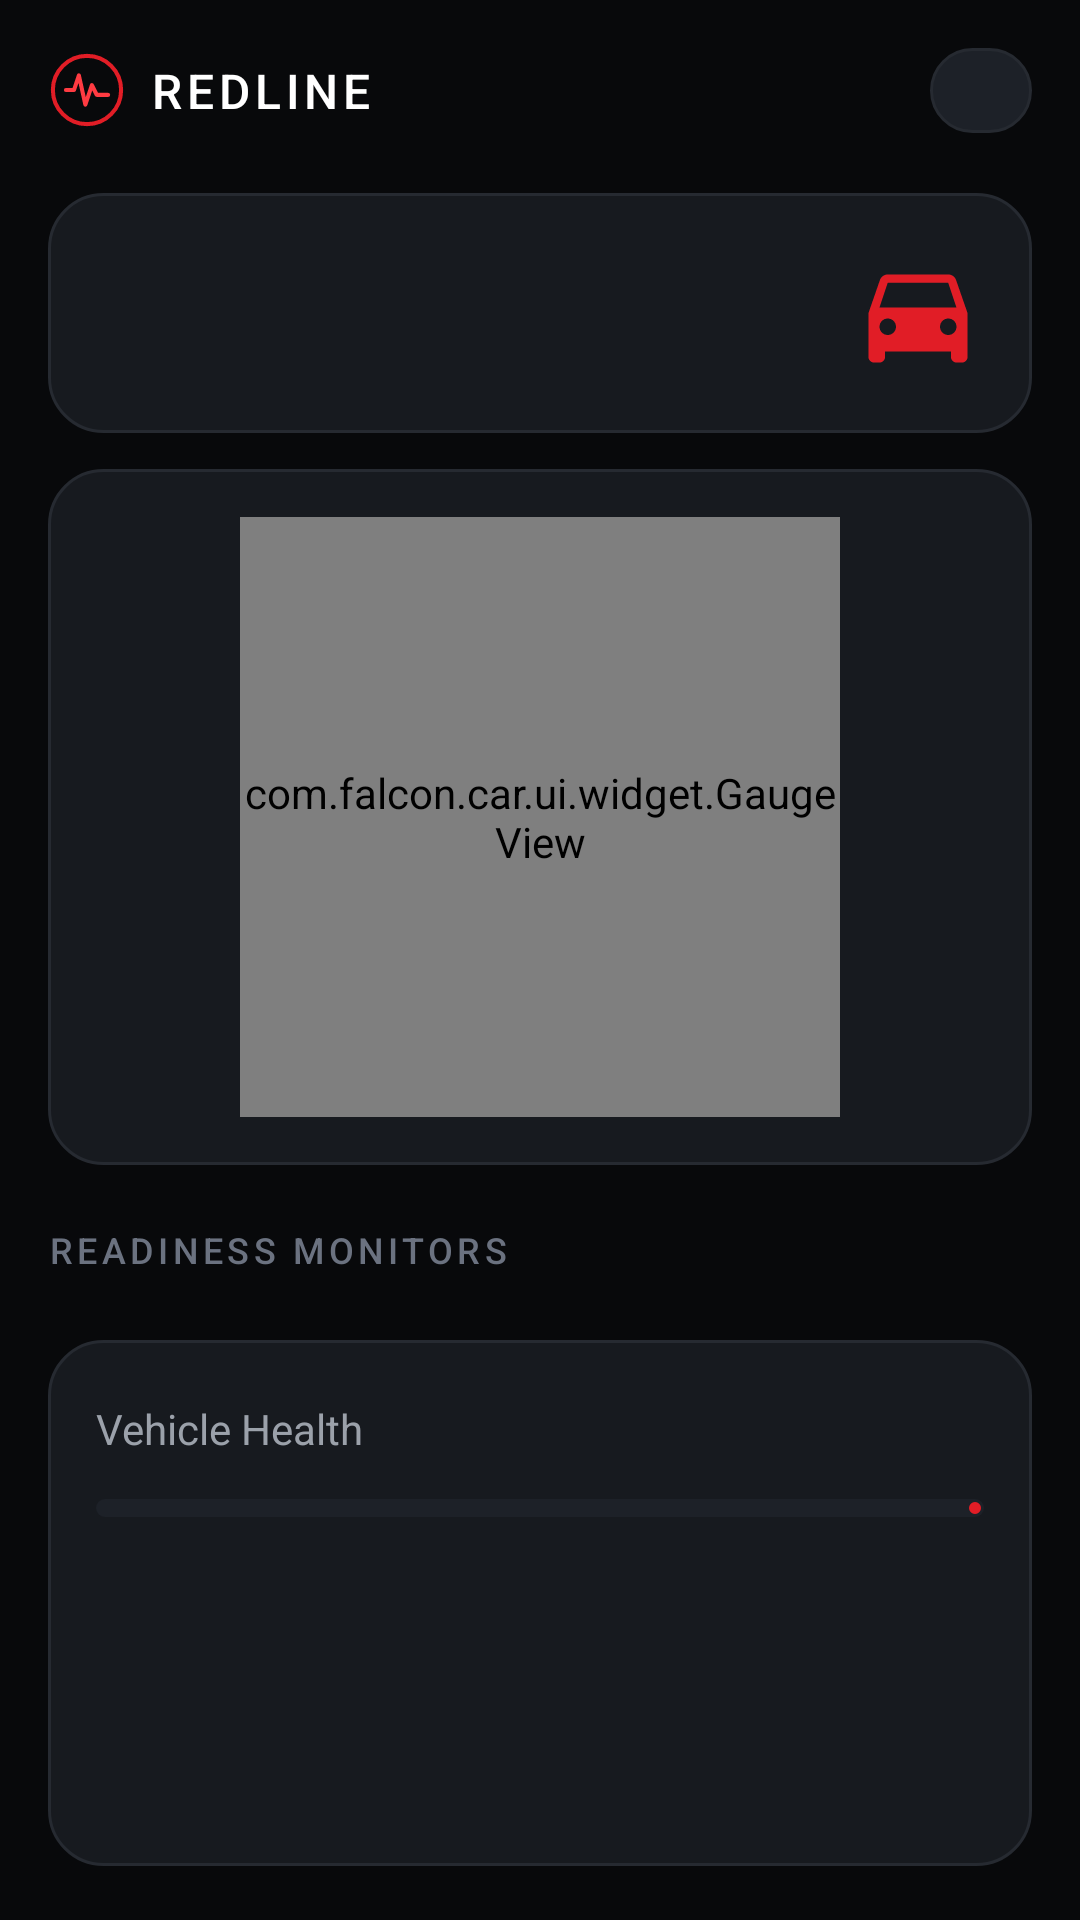

Icon click points for this 1080 x 1920 phone screenshot, format (x,y):
Vehicle: (918,318)
